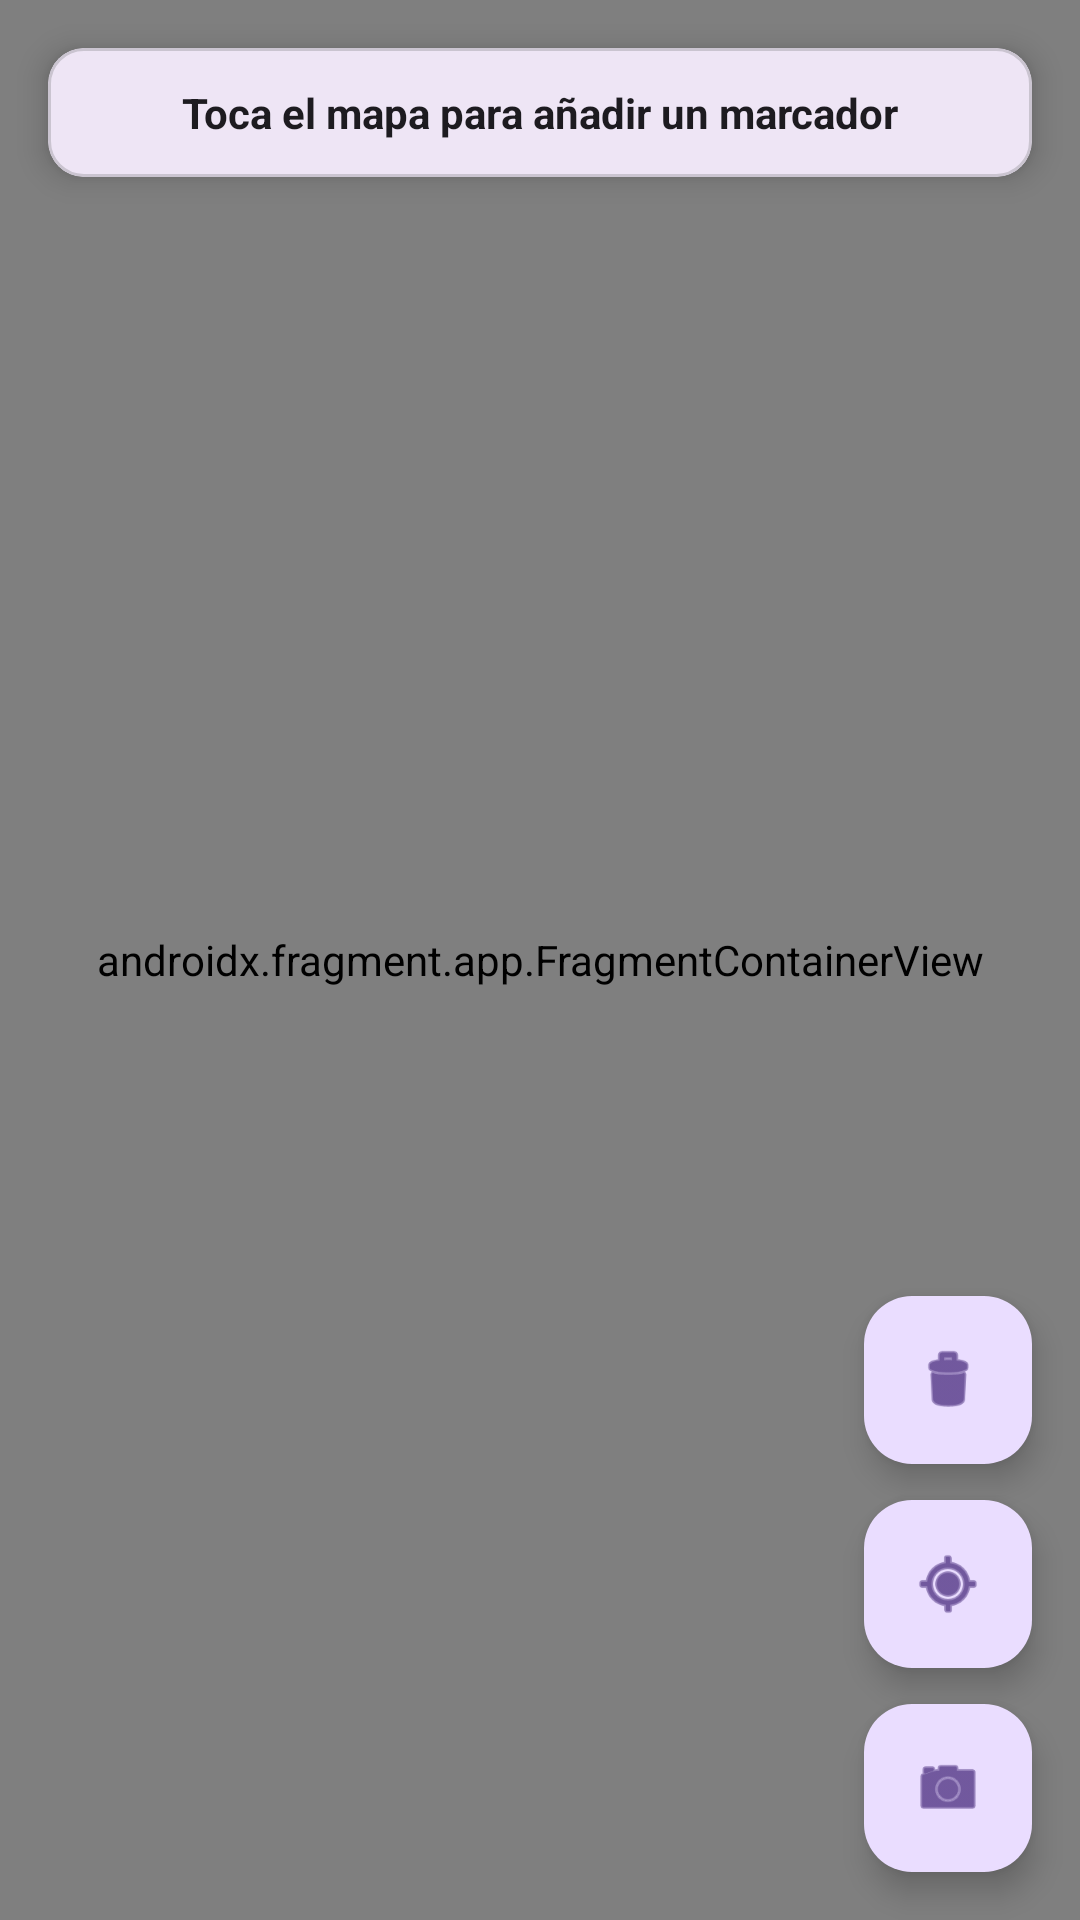

Icon bounding boxes for this 1080w x 1920h phone screenshot, format BBox(x1, y1, x2, y2):
Capturar Foto: BBox(864, 1704, 1032, 1872)
Limpiar Marcadores: BBox(864, 1296, 1032, 1464)
Mi Ubicación: BBox(864, 1500, 1032, 1668)
